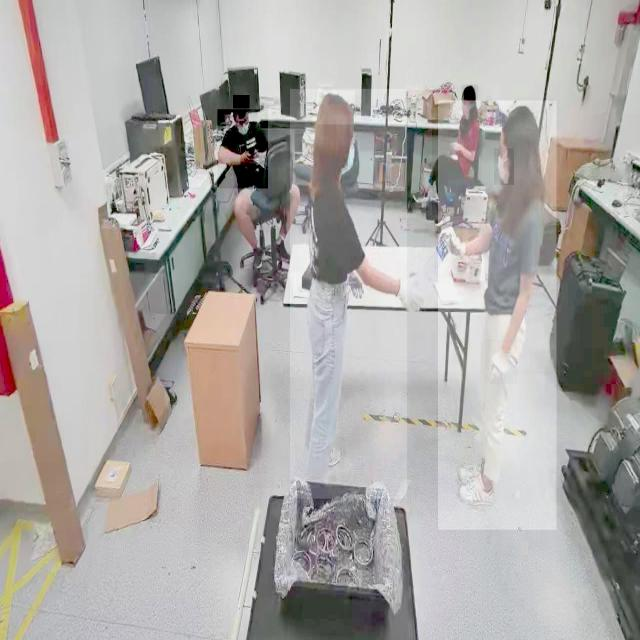face_mask: (338, 140, 362, 178), (494, 148, 514, 185)
face_nomask: (462, 101, 470, 120)
hand_glove: (395, 262, 419, 328), (434, 224, 463, 277), (485, 339, 517, 385)
hand_noglove: (246, 143, 262, 168), (240, 147, 254, 167), (450, 140, 464, 150)
head_nohelmet: (317, 91, 355, 125), (501, 104, 542, 132), (461, 84, 478, 100), (232, 95, 250, 109)
person: (438, 100, 556, 530), (289, 89, 407, 499), (432, 86, 482, 216), (217, 110, 268, 190)
shoes: (454, 469, 496, 511), (410, 179, 434, 209), (271, 233, 292, 266), (249, 238, 263, 280)
